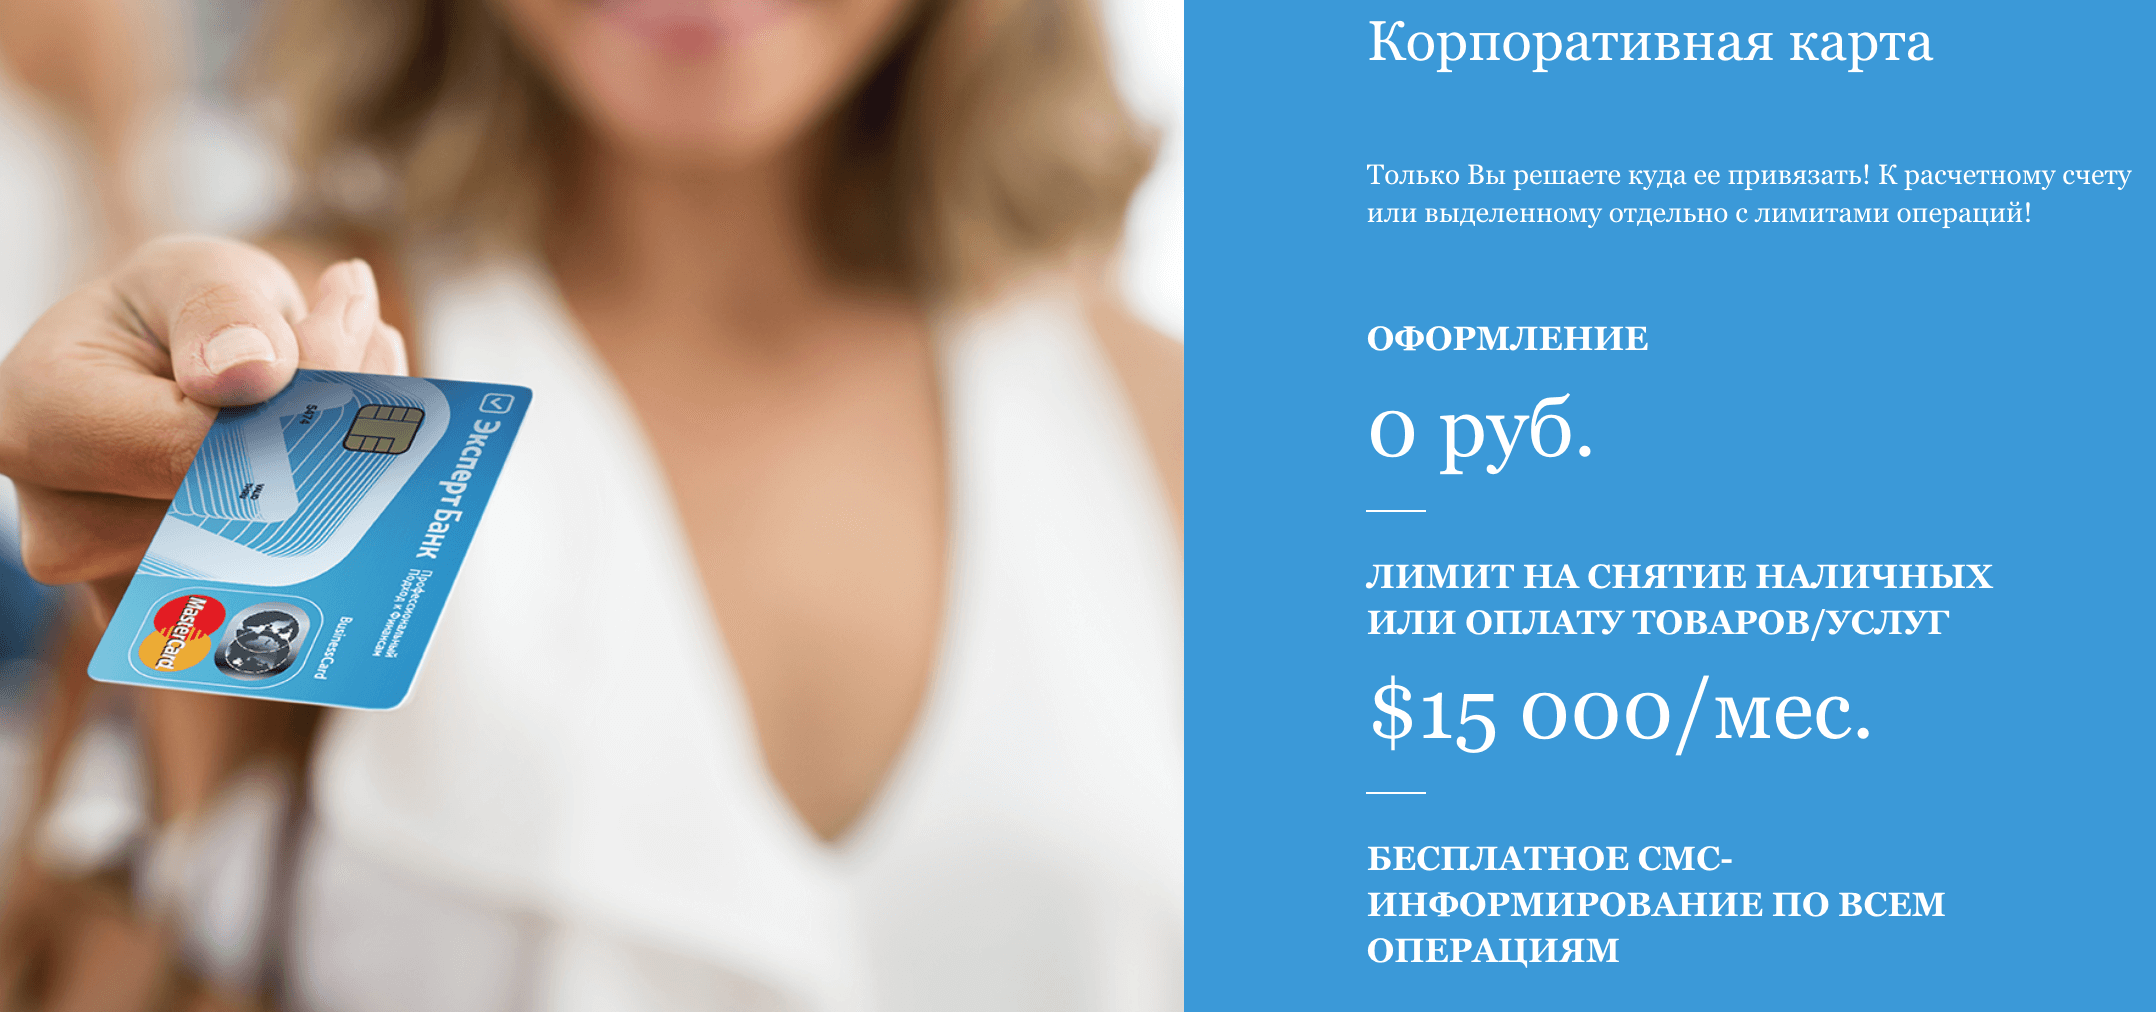card: (88, 370, 533, 709)
